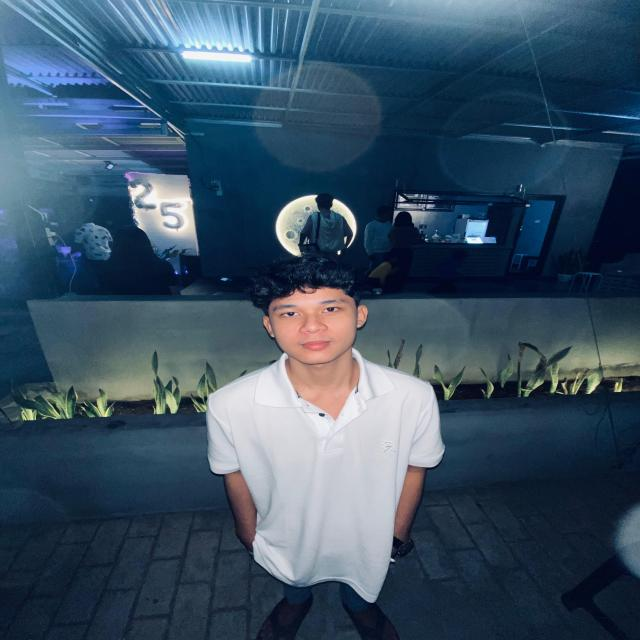nohelmet: (242, 256, 372, 364)
